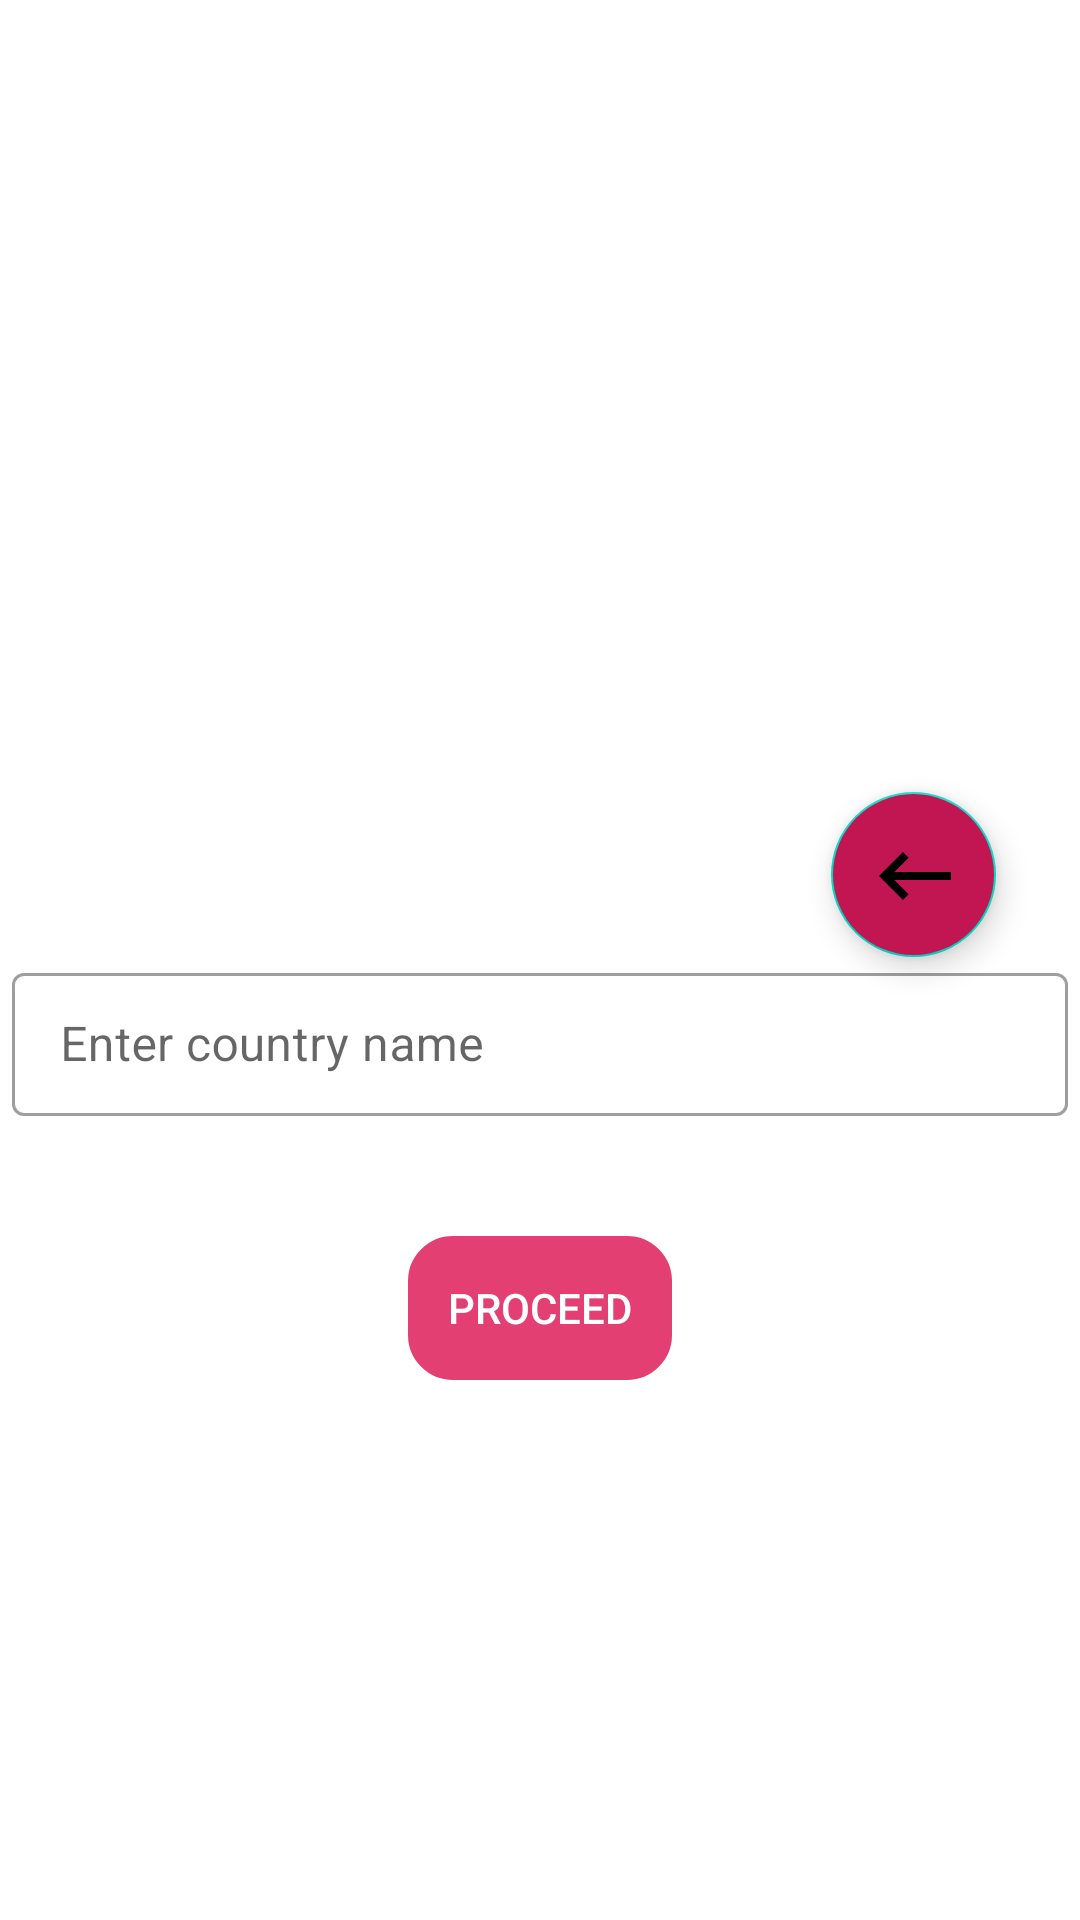

Where to tap for icons on this 1080px×1920px app screen, as point (x, y):
keyboard backspace: point (913, 874)
